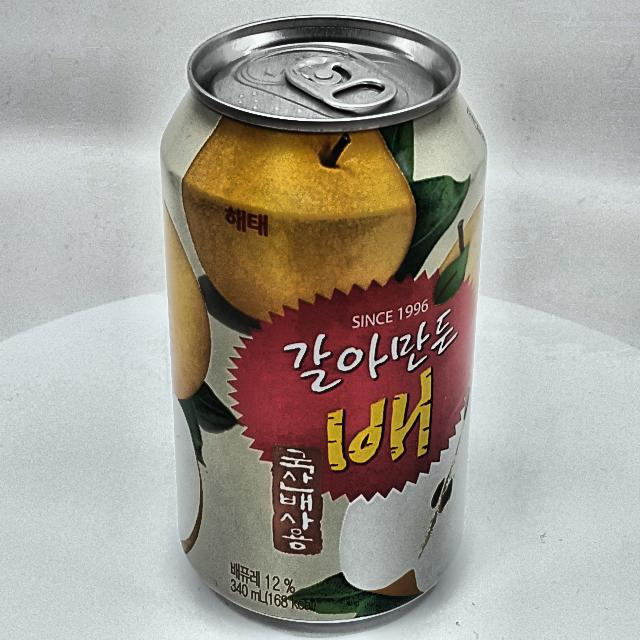galamandeunbae: (163, 14, 486, 619)
